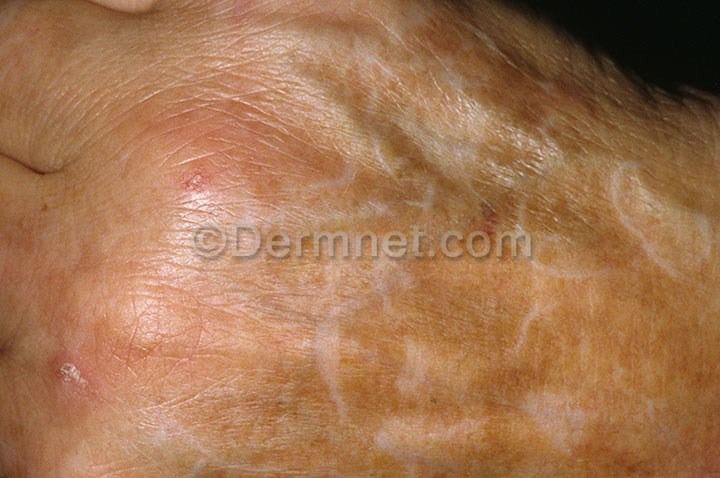Melasma: (306, 296, 642, 466), (413, 0, 594, 162), (2, 283, 145, 463), (123, 85, 321, 210)
